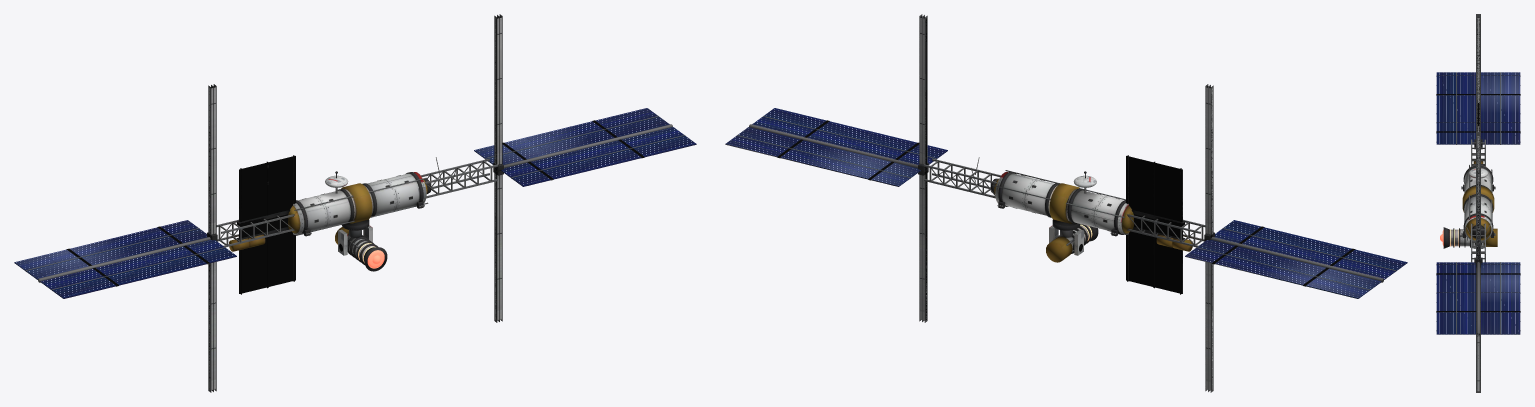
The model's file is station.glb.
3 renders of one model, left to right at view 1: azimuth 30°, elevation 25°; view 2: azimuth 150°, elevation 25°; view 3: azimuth 270°, elevation 25°, orthographic. The views are drawn at different scales.
Parts seen in each view (by area): view 1: WingL_m, WingR_m, Core_m, RadT_m, RadB_m, Station_m, Emitter_m, Gimbal_m; view 2: WingL_m, WingR_m, Core_m, RadB_m, RadT_m, Station_m, Emitter_m, Gimbal_m; view 3: WingR_m, WingL_m, Core_m, Emitter_m, Station_m, Dish_m.
Boxes of the visible parts, x1,y1,x2,y2 form: WingL_m: [14, 84, 236, 392]; WingR_m: [474, 14, 696, 322]; Core_m: [288, 172, 431, 236]; RadT_m: [237, 155, 295, 277]; RadB_m: [237, 172, 295, 294]; Station_m: [216, 157, 497, 251]; Emitter_m: [335, 227, 387, 271]; Gimbal_m: [338, 219, 372, 255]; WingL_m: [1185, 84, 1407, 392]; WingR_m: [725, 14, 947, 322]; Core_m: [990, 170, 1133, 236]; RadB_m: [1126, 172, 1184, 294]; RadT_m: [1126, 155, 1184, 277]; Station_m: [924, 157, 1205, 251]; Emitter_m: [1046, 224, 1098, 262]; Gimbal_m: [1049, 219, 1083, 255]; WingR_m: [1436, 132, 1520, 392]; WingL_m: [1436, 14, 1520, 149]; Core_m: [1461, 165, 1495, 240]; Emitter_m: [1443, 227, 1497, 248]; Station_m: [1466, 139, 1490, 262]; Dish_m: [1468, 168, 1488, 178].
Size of the model in its own units: 101 by 46.48 by 13.7.
Materials: 10 (8 with a texture image).
